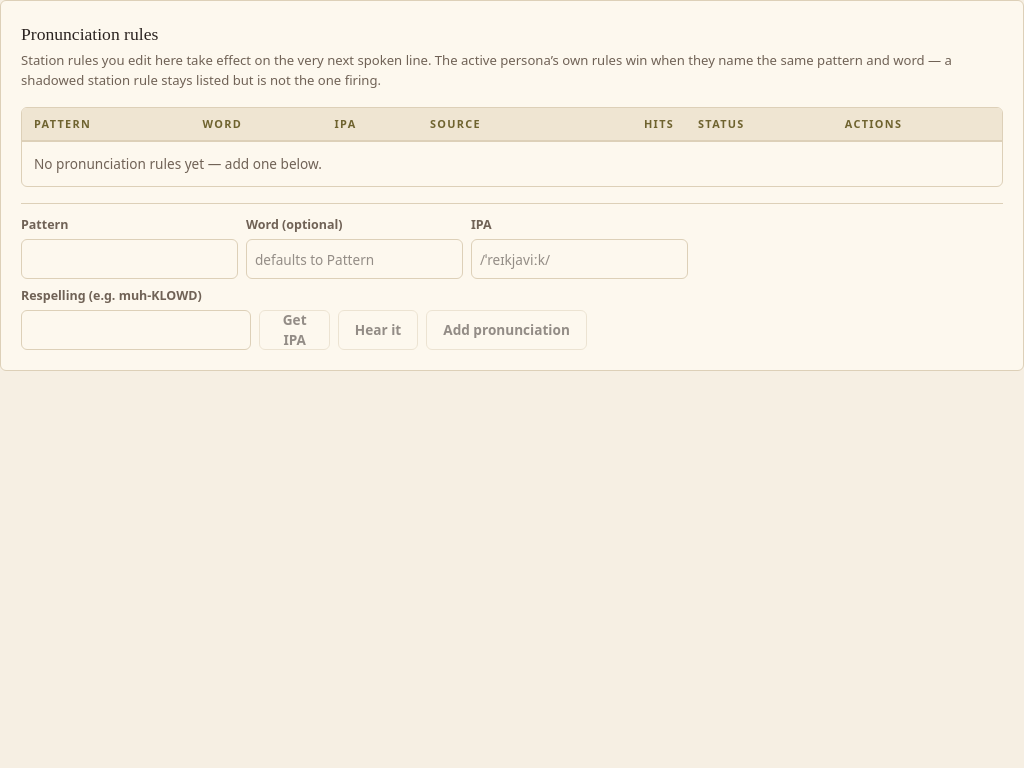
Test: Feature: adding a pronunciation rule › Scenario: the rule is accepted › refreshes the list with the new row
The image size is (1024, 768).
Type "Big Sur" into the field labelled "Pattern" at (130, 259), box [21, 239, 238, 279]
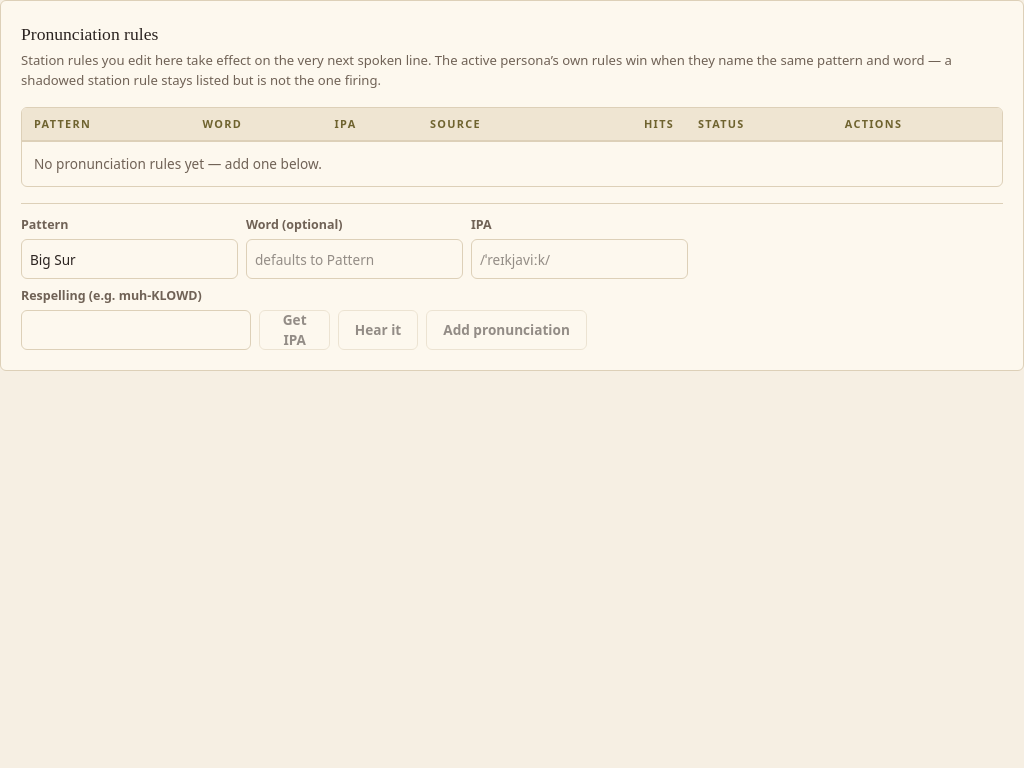
Type "Sur" into the field labelled "Word (optional)" at (354, 259), box [246, 239, 463, 279]
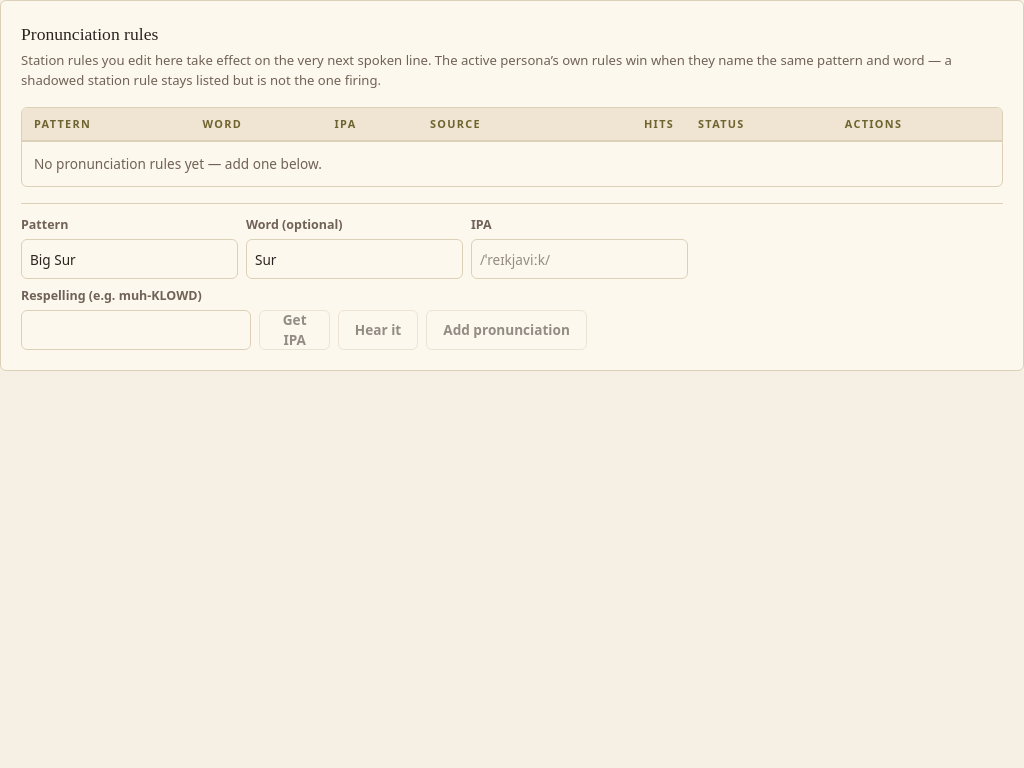
Type "/sɜːr/" into the field labelled "IPA" at (580, 259), box [471, 239, 688, 279]
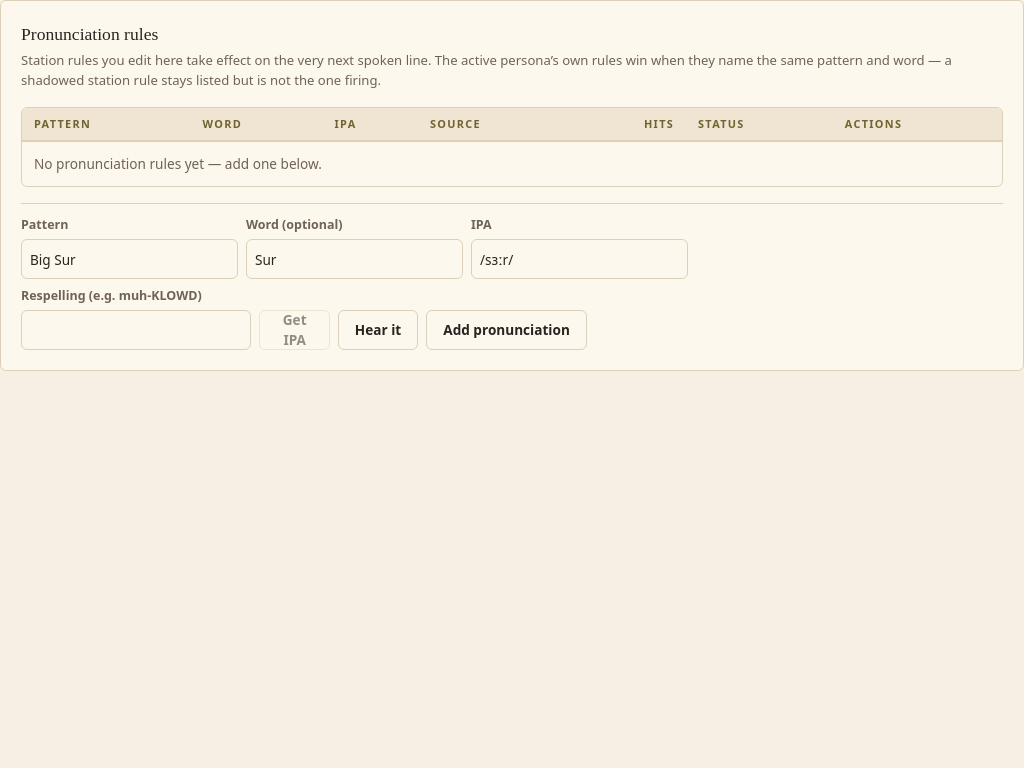
Click the button "Add pronunciation" at (507, 330), box [426, 310, 587, 350]
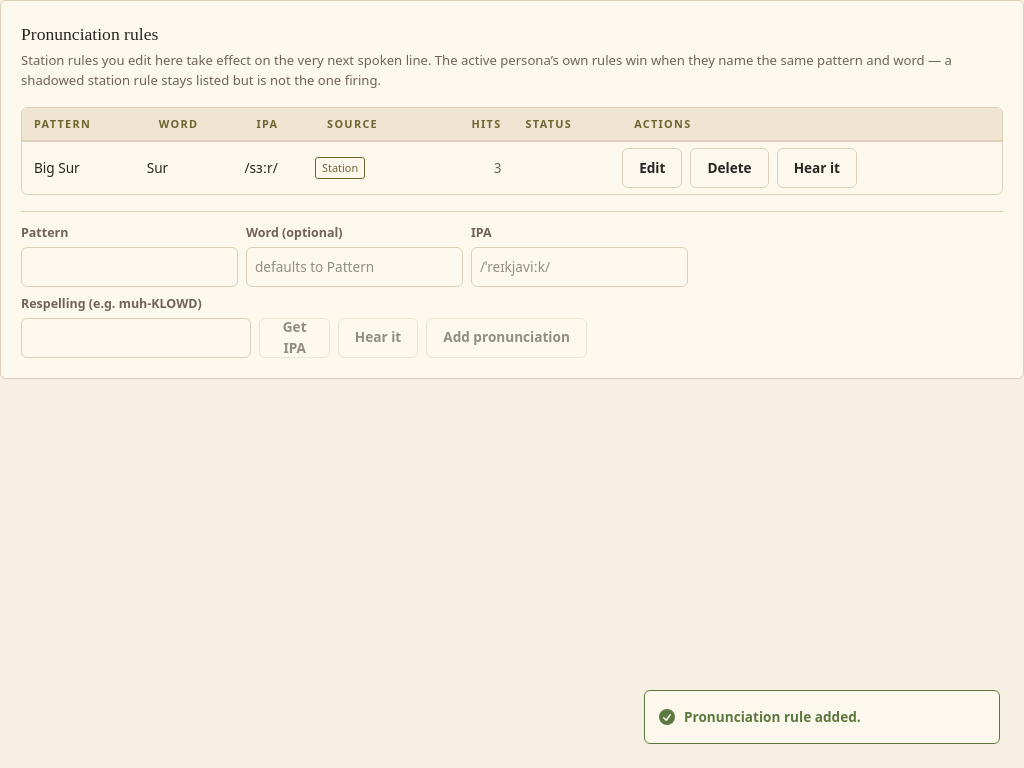
Check: the text "Big Sur" is shown, box [22, 141, 147, 194]
